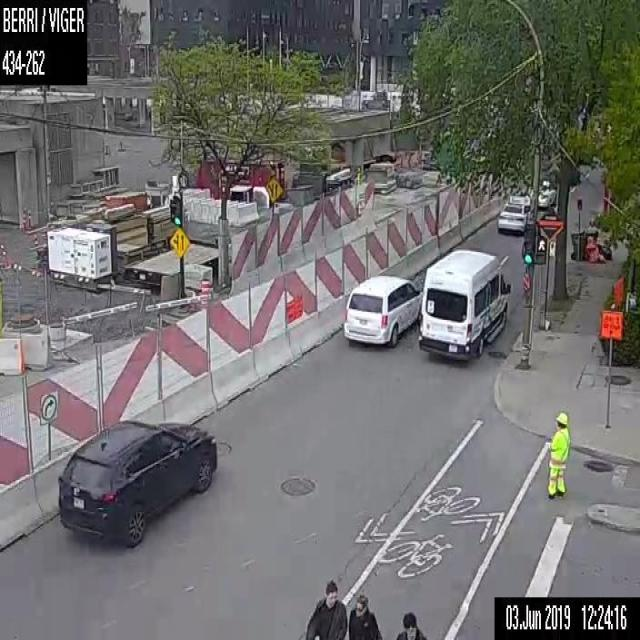construction: (0, 73, 524, 548), (598, 307, 624, 426), (200, 276, 212, 309)
pedestrian: (304, 576, 346, 638), (546, 412, 569, 497), (349, 590, 381, 639), (397, 612, 428, 639)
vehicle: (55, 416, 216, 544), (418, 245, 510, 360), (341, 272, 424, 358), (496, 200, 529, 233), (536, 187, 556, 208)
